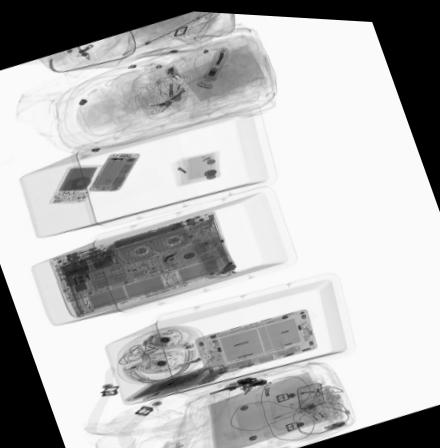Powerbank: (46, 164, 105, 204)
